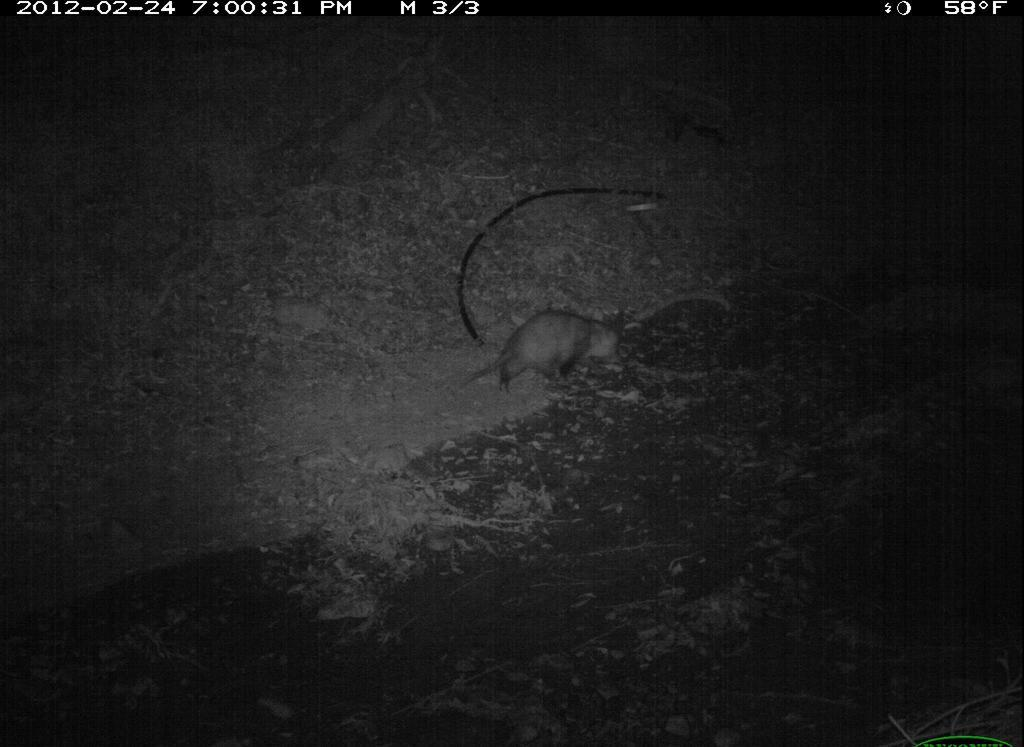opossum: (457, 306, 629, 397)
